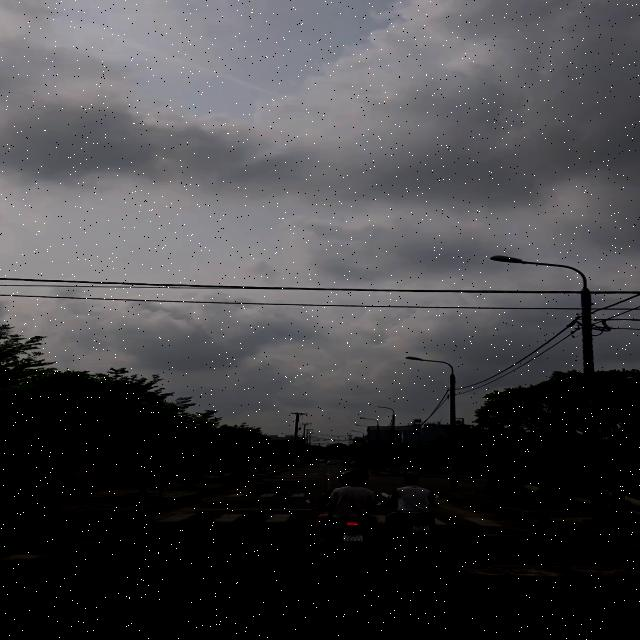helmet: (338, 471, 351, 485)
no_helmet: (398, 472, 428, 492)
